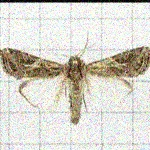Spodoptera litura: (0, 29, 149, 124)
